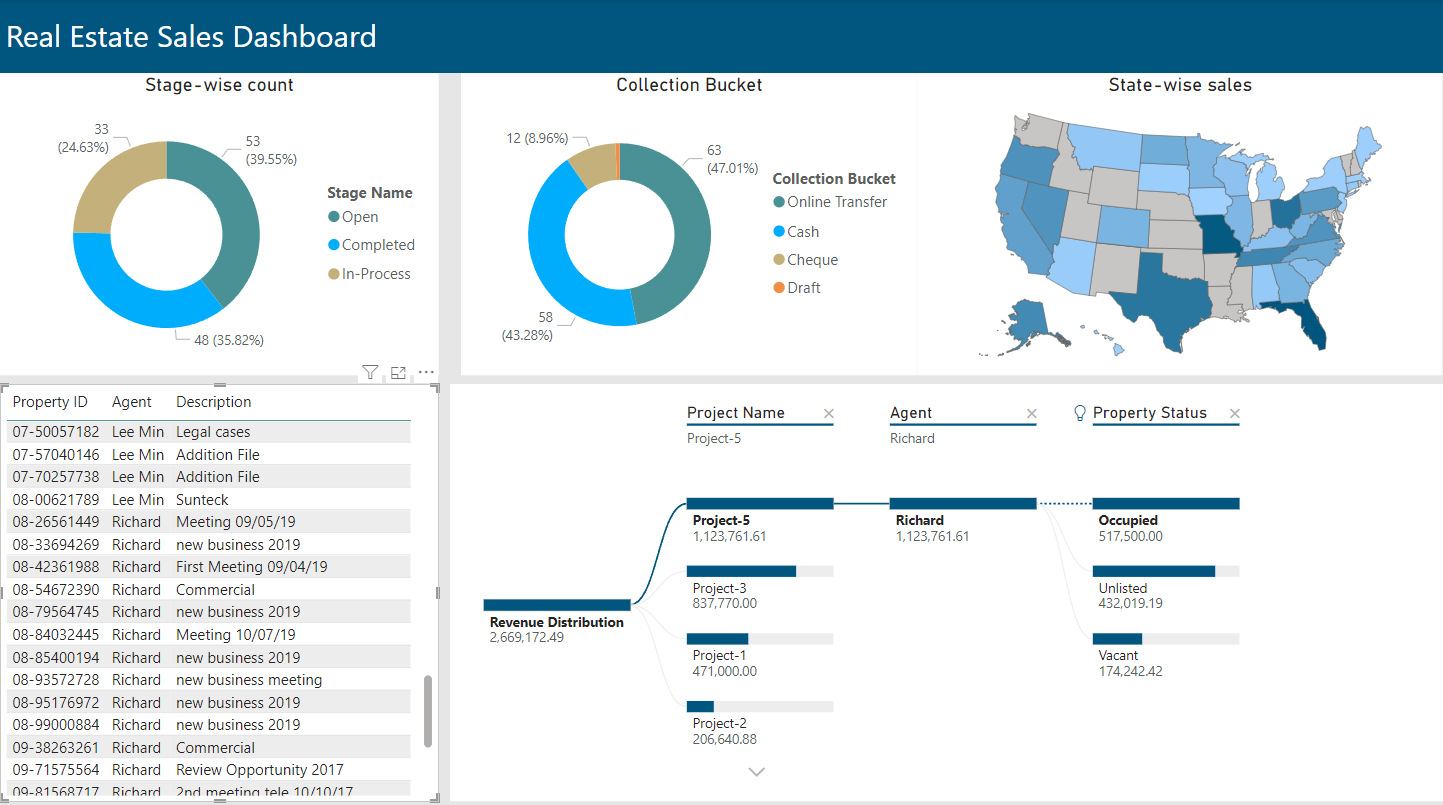

What the dashboard file says about the page in this screenshot:
{"tool":"powerbi","page":{"name":"Details Page","canvas":[1280,720],"ordinal":1},"visuals":[{"type":"donutChart","title":"Stage-wise count","fields":{"Category":["Real Estate Data.Stage Name"],"Y":["Real Estate Data.Stage Name"]},"box":[0,65.5,389.2,267.8],"z":0},{"type":"shape","box":[0,0,1279.3,61.9],"z":1000},{"type":"textbox","box":[0,8.4,516.2,44.6],"z":2000},{"type":"shapeMap","title":"State-wise sales","fields":{"Category":["Real Estate Data.State"],"Value":["Real Estate Data.Sales"]},"box":[814,65.5,465.3,267.8],"z":3000},{"type":"donutChart","title":"Collection Bucket","fields":{"Category":["Real Estate Data.Collection Bucket"],"Y":["Real Estate Data.Account Name"]},"box":[398.7,65.5,405.8,267.8],"z":4000},{"type":"tableEx","fields":{"Values":["Real Estate Data.Property ID","Real Estate Data.Agent","Real Estate Data.Description"]},"box":[0,341.6,389.2,370.1],"z":5000},{"type":"decompositionTreeVisual","fields":{"Analyze":["Real Estate Data.Revenue"],"ExplainBy":["Real Estate Data.Project Name","Real Estate Data.Agent","Real Estate Data.Property Status"]},"box":[398.7,341.6,880.7,370.1],"z":6000}]}

Visuals, with their boxes in screenshot pixels (x1, y1, x2, y2), scaled from the page's 1280x720 canvas onto the 1443x805 screenshot:
"Stage-wise count" donutChart: [x1=0, y1=73, x2=439, y2=373]
shape: [x1=0, y1=0, x2=1442, y2=69]
textbox: [x1=0, y1=9, x2=582, y2=59]
"State-wise sales" shapeMap: [x1=918, y1=73, x2=1442, y2=373]
"Collection Bucket" donutChart: [x1=449, y1=73, x2=907, y2=373]
tableEx - Real Estate Data.Property ID x Real Estate Data.Agent: [x1=0, y1=382, x2=439, y2=796]
decompositionTreeVisual - Real Estate Data.Revenue x Real Estate Data.Project Name: [x1=449, y1=382, x2=1442, y2=796]
